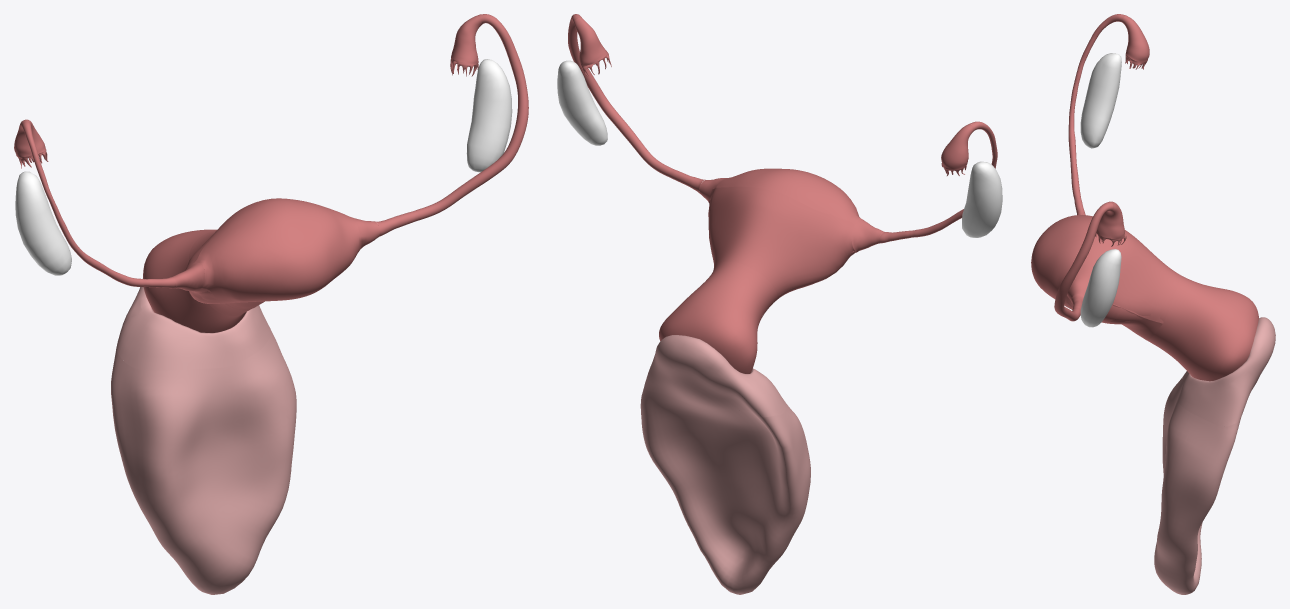
The model's file is female-reproductive.glb.
3 renders of one model, left to right at view 1: azimuth 30°, elevation 25°; view 2: azimuth 150°, elevation 25°; view 3: azimuth 270°, elevation 25°, orthographic. The views are drawn at different scales.
Parts seen in each view (by area): view 1: Vagina (×2), Uterus (×2), Cervix, Fallopian tube.l (×2), Ovary.l, Ovary.r, Fallopian tube.r; view 2: Vagina (×2), Uterus (×4), Cervix, Fallopian tube.l (×2), Ovary.l, Ovary.r, Fallopian tube.r (×2); view 3: Vagina (×2), Uterus (×4), Cervix, Ovary.r, Fallopian tube.l (×2), Fallopian tube.r (×2), Ovary.l.
Boxes of the visible parts, bbox=[...] form: Vagina (×2): bbox=[111, 287, 296, 594]; Uterus (×2): bbox=[173, 198, 379, 300]; Cervix: bbox=[143, 229, 246, 332]; Fallopian tube.l (×2): bbox=[414, 14, 528, 220]; Ovary.l: bbox=[466, 59, 512, 172]; Ovary.r: bbox=[15, 171, 71, 275]; Fallopian tube.r: bbox=[21, 120, 148, 286]; Vagina (×2): bbox=[640, 335, 810, 594]; Uterus (×4): bbox=[699, 168, 883, 317]; Cervix: bbox=[659, 279, 762, 373]; Fallopian tube.l (×2): bbox=[568, 14, 672, 177]; Ovary.l: bbox=[557, 60, 607, 145]; Ovary.r: bbox=[962, 161, 1002, 237]; Fallopian tube.r (×2): bbox=[911, 121, 997, 237]; Vagina (×2): bbox=[1154, 317, 1275, 594]; Uterus (×4): bbox=[1031, 215, 1201, 351]; Cervix: bbox=[1165, 284, 1258, 381]; Ovary.r: bbox=[1080, 53, 1121, 148]; Fallopian tube.l (×2): bbox=[1054, 201, 1124, 321]; Fallopian tube.r (×2): bbox=[1068, 14, 1149, 198]; Ovary.l: bbox=[1080, 249, 1121, 327].
Bounding box in the file's own units: 0.1236 × 0.1333 × 0.061.
